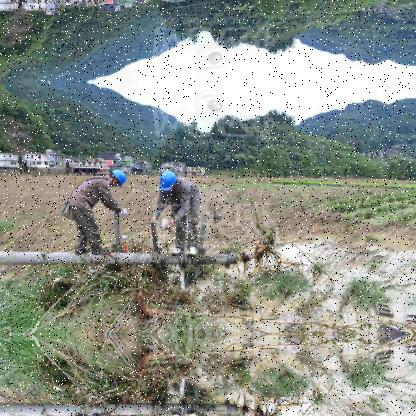helmet: (107, 166, 131, 186), (160, 166, 179, 190)
